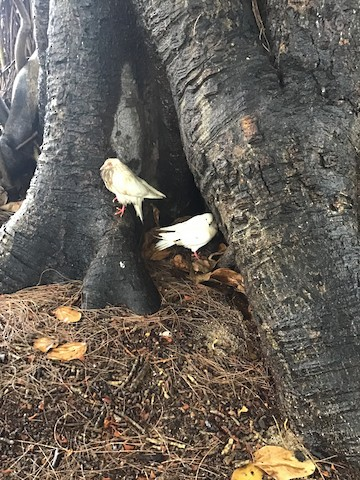pigeon: (97, 153, 166, 225), (154, 212, 221, 262)
